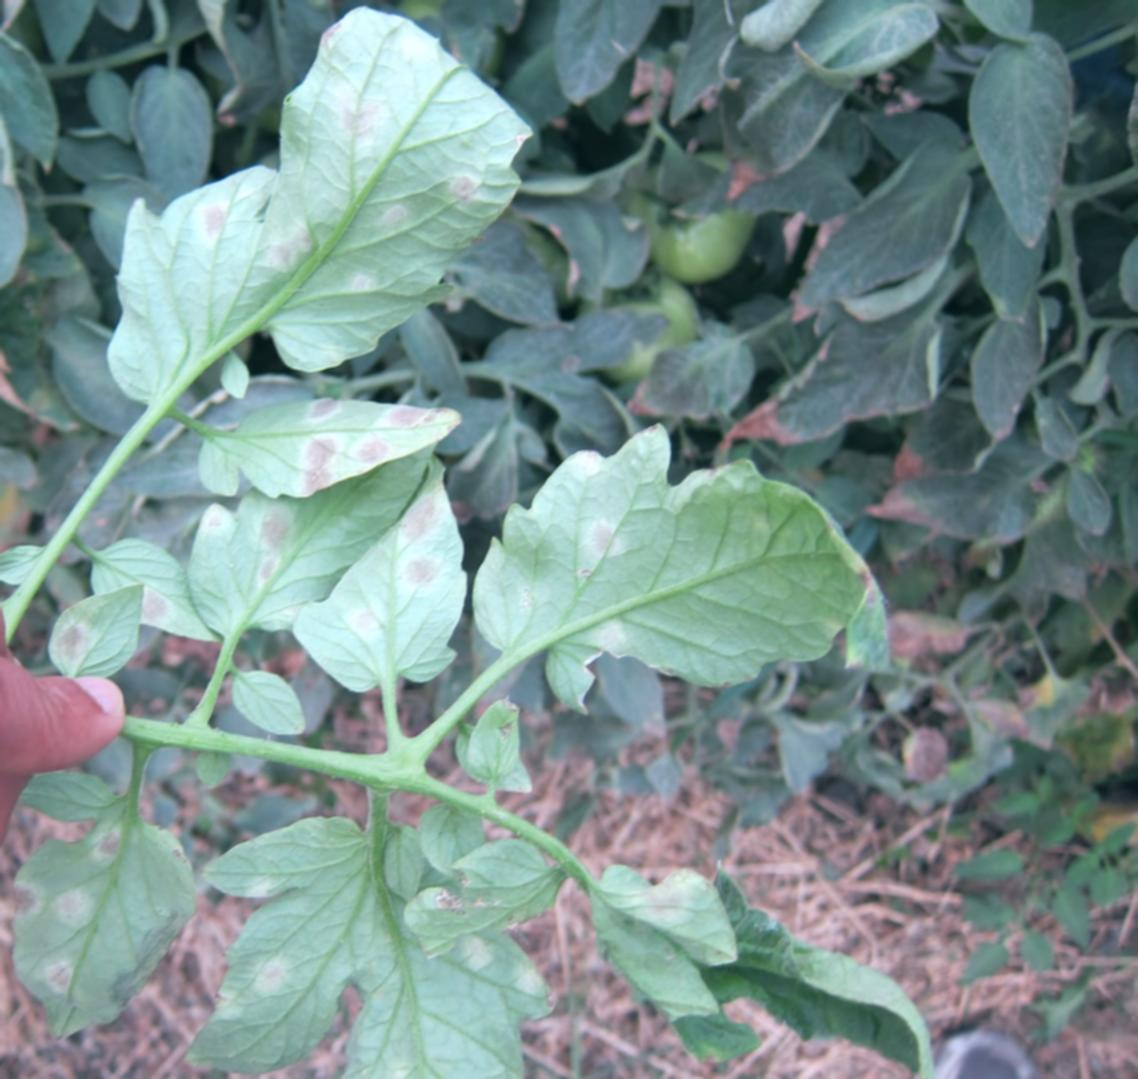Tomato mold leaf: (119, 0, 537, 411), (471, 422, 949, 699), (189, 821, 541, 1079), (591, 854, 976, 1079), (183, 430, 438, 648), (7, 771, 207, 1044), (278, 450, 480, 700), (172, 366, 475, 493), (411, 829, 571, 963), (42, 558, 166, 679)
